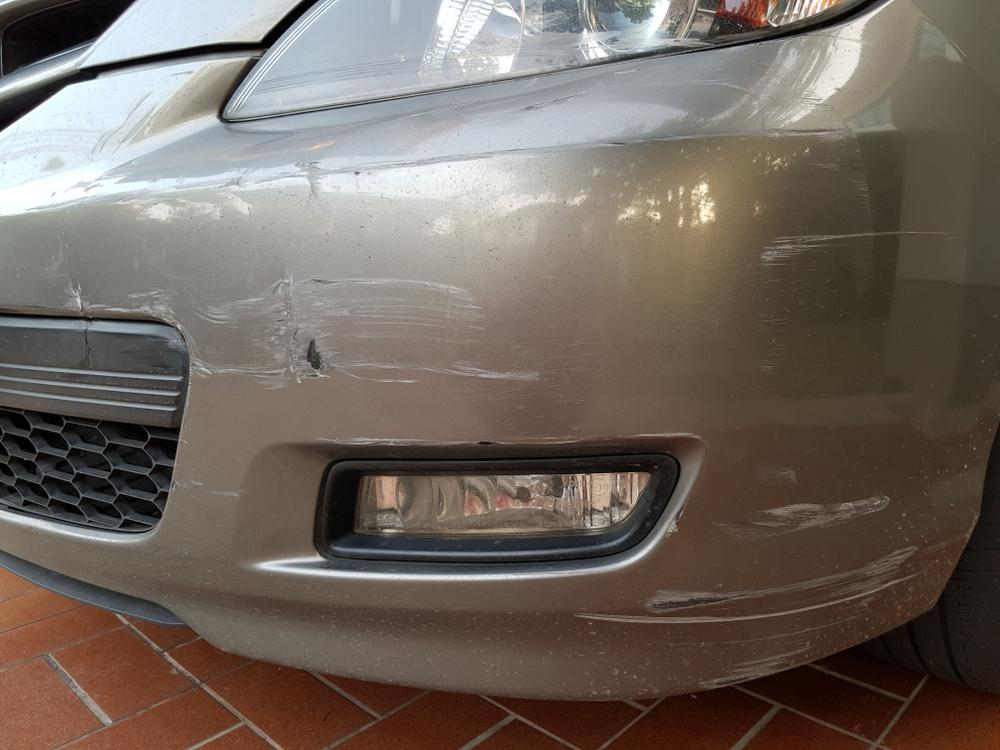scratch: (577, 464, 930, 691), (56, 268, 544, 394), (766, 96, 865, 340), (319, 429, 710, 448)
